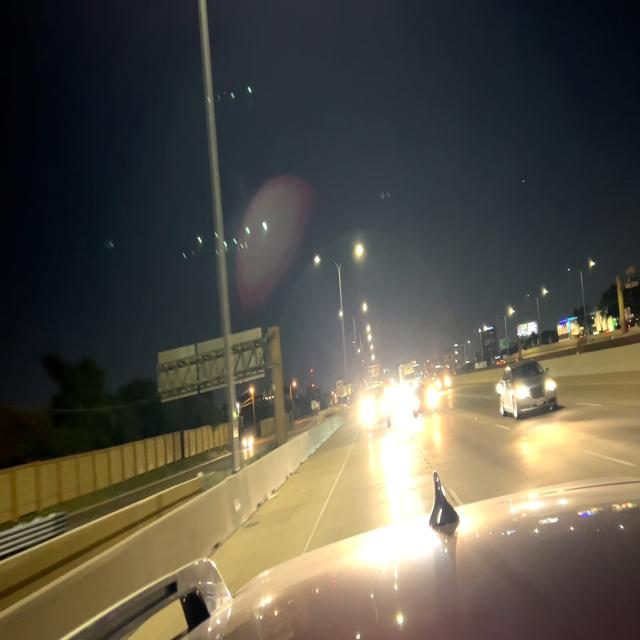back-of-sign: (158, 328, 265, 402)
